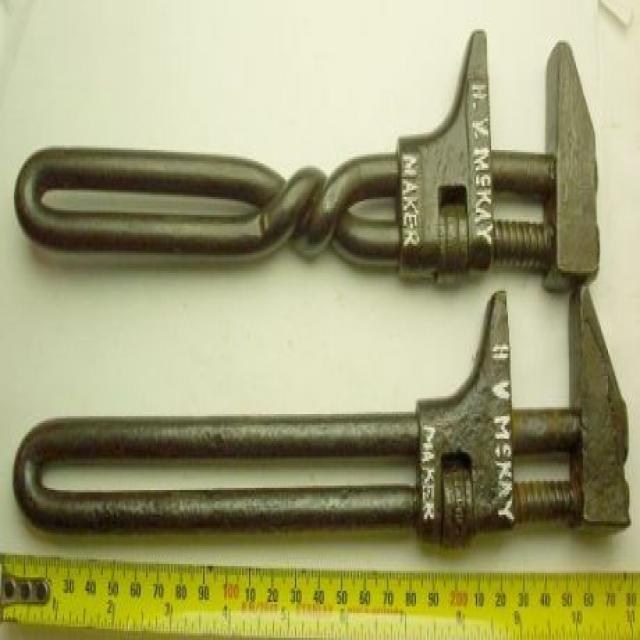wrench: (8, 281, 640, 554), (6, 22, 607, 296)
